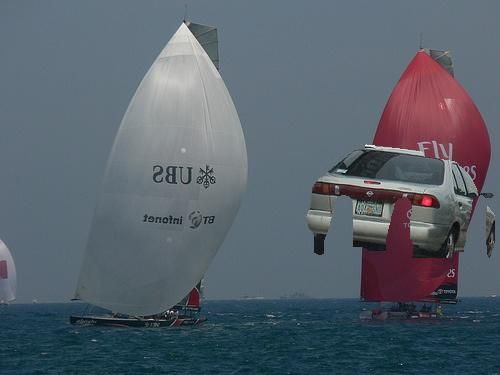tampered: (307, 145, 495, 258)
